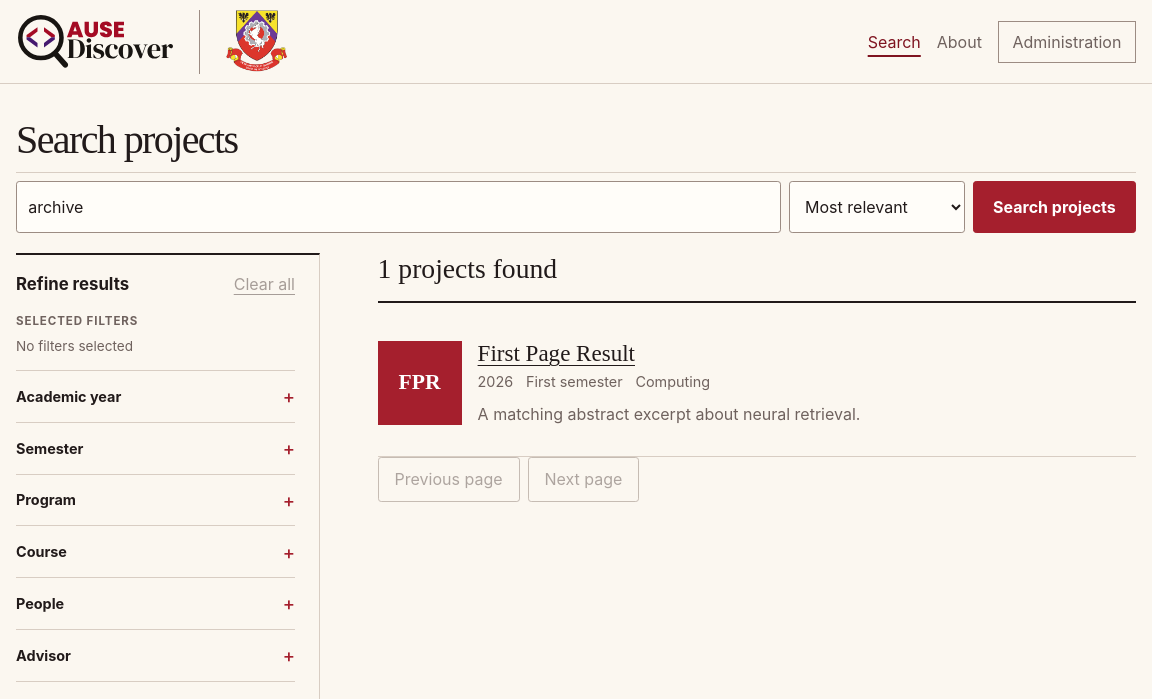
Test case: public search paging › preserves preceding free text when a person suggestion is accepted
The width and height of the screenshot is (1152, 699).
Check: the heading "First Page Result" is shown, box 478,340 -> 635,366
Type " Alex Adv" into the dropdown named "Search terms" at [398, 207], box 16,181 -> 781,233
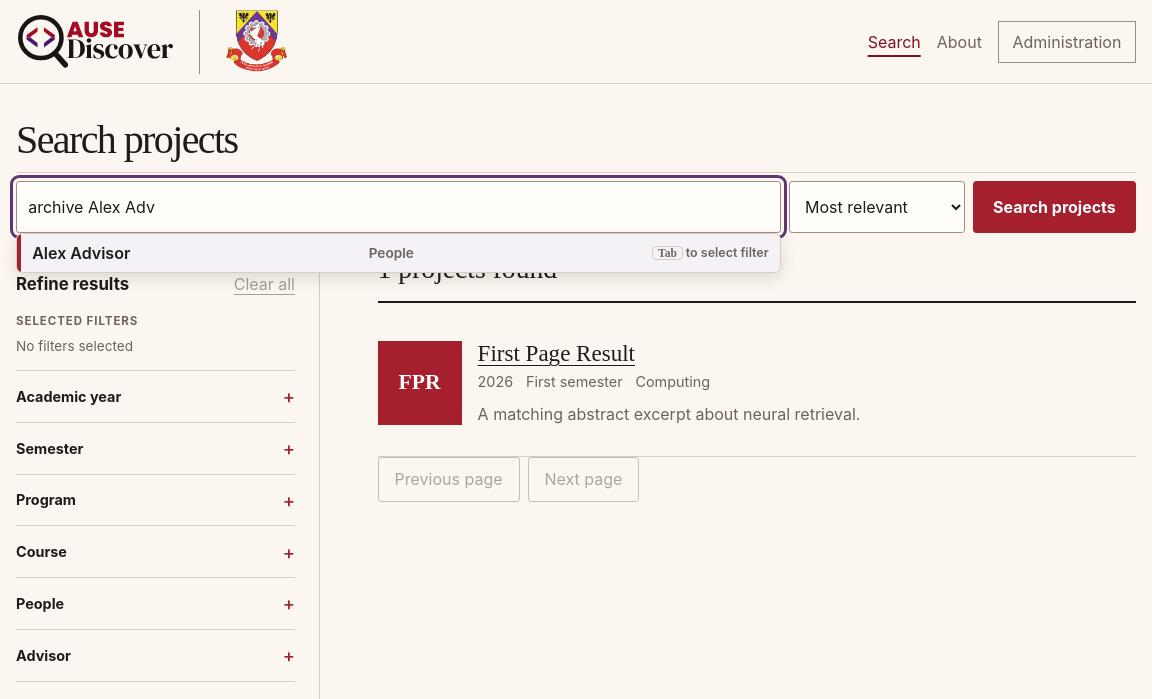
Check: the number of options is 1, box 17,234 -> 780,272
Press Tab
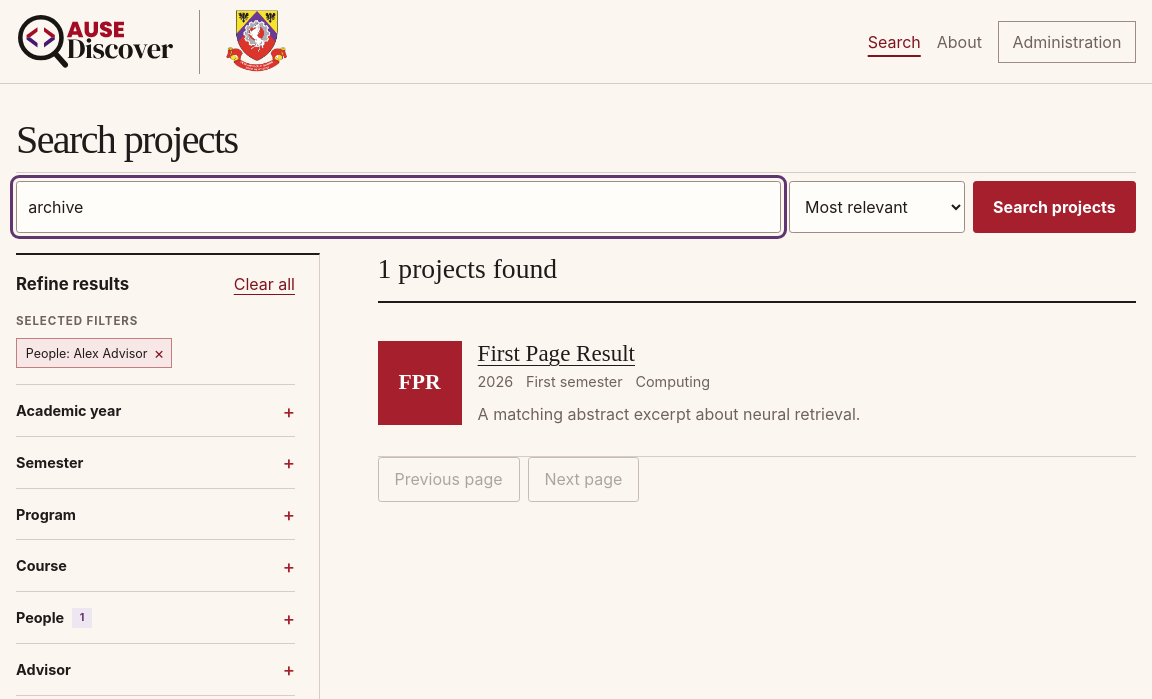
Check: the dropdown named "Search terms" holds "archive", box 16,181 -> 781,233
Check: the button named "Remove People: Alex Advisor" is shown, box 154,345 -> 164,361
